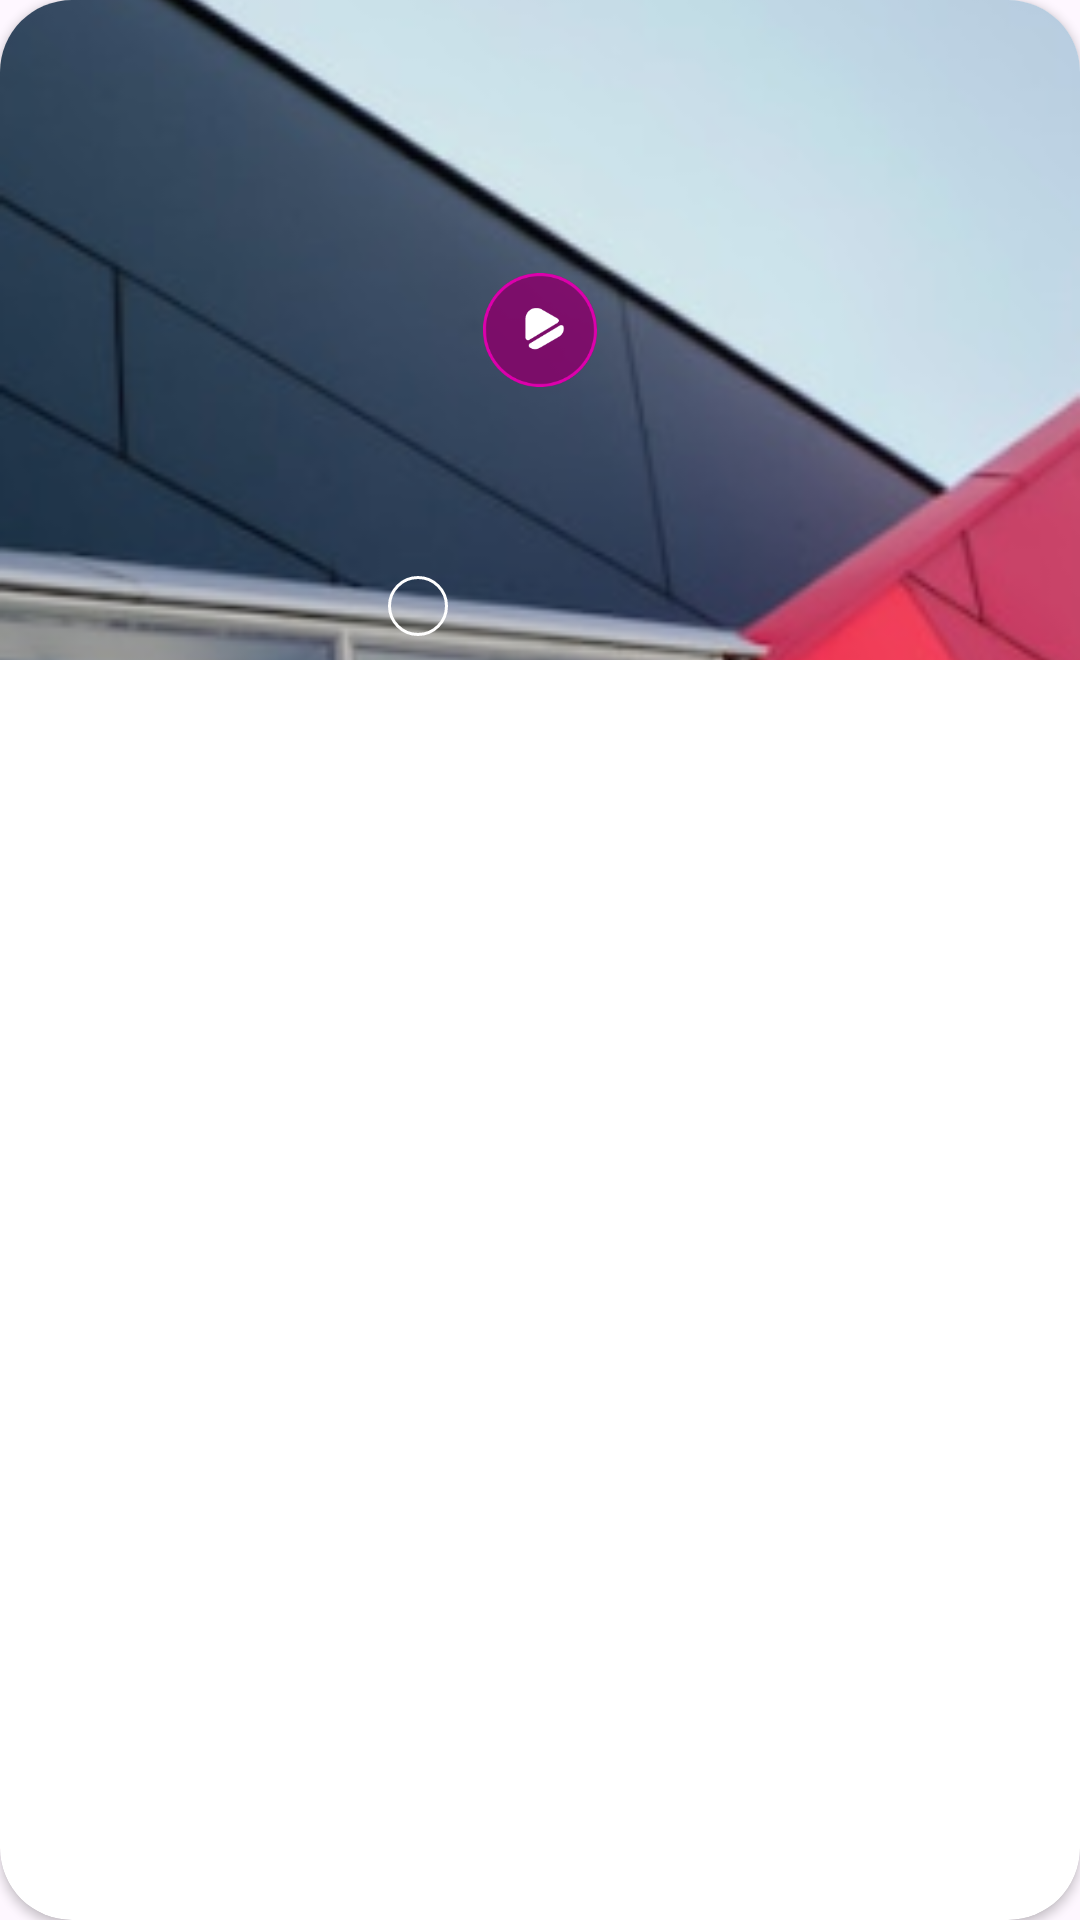

Icon bounding boxes for this 1080*1920 phone screenshot, format (x1, y1, x2, y2):
play: (483, 273, 597, 387)
